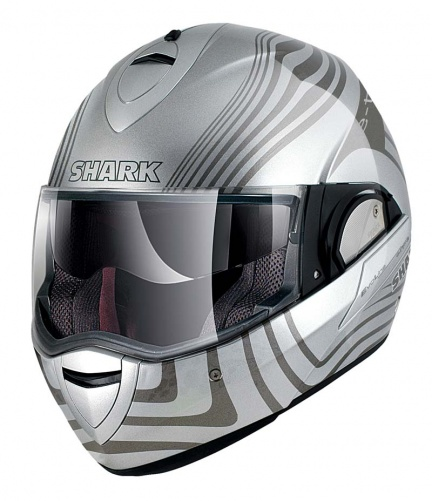helmet: (27, 25, 402, 450)
